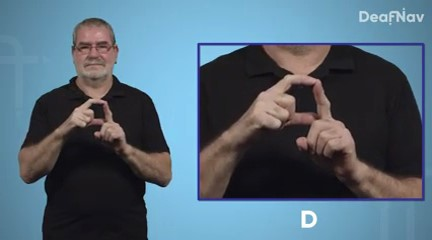D: (244, 73, 365, 175)
